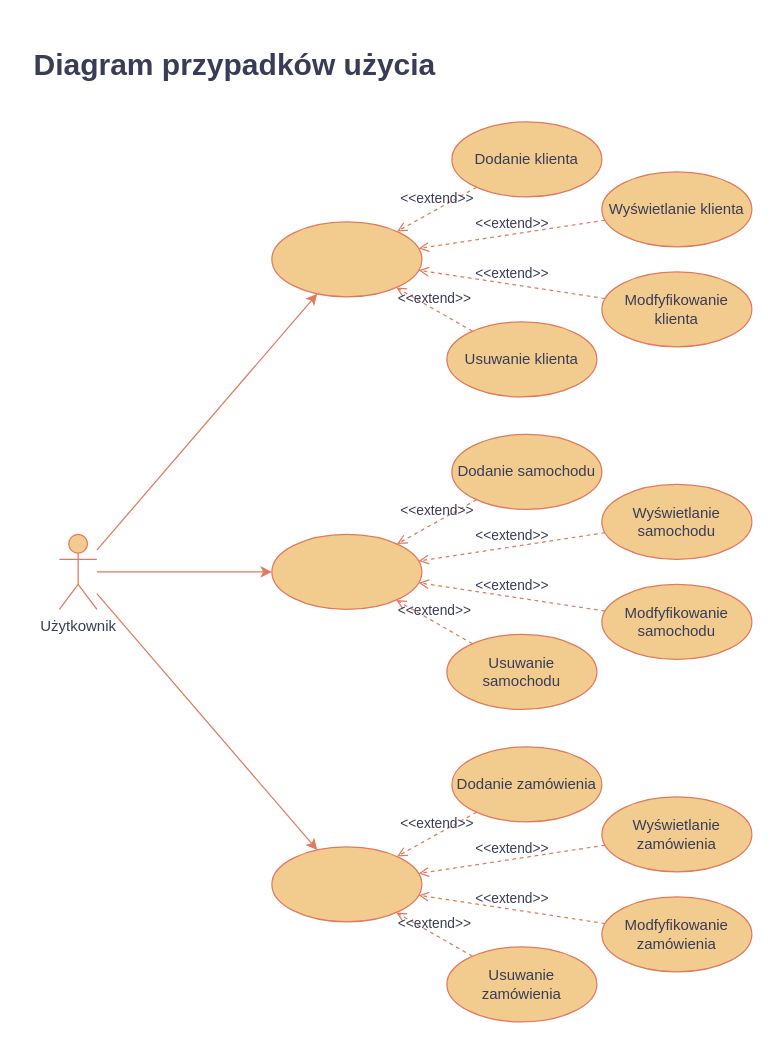
Some shapes in this 774 by 1044 pixel diagram are drawn without their labels. The centre of each missing label's shape, as x and y in pixels:
Zarządzanie klientami: the point at 346,259
Zarządzanie samochodami: the point at 346,571
Zarządzanie zamówienia: the point at 346,884
